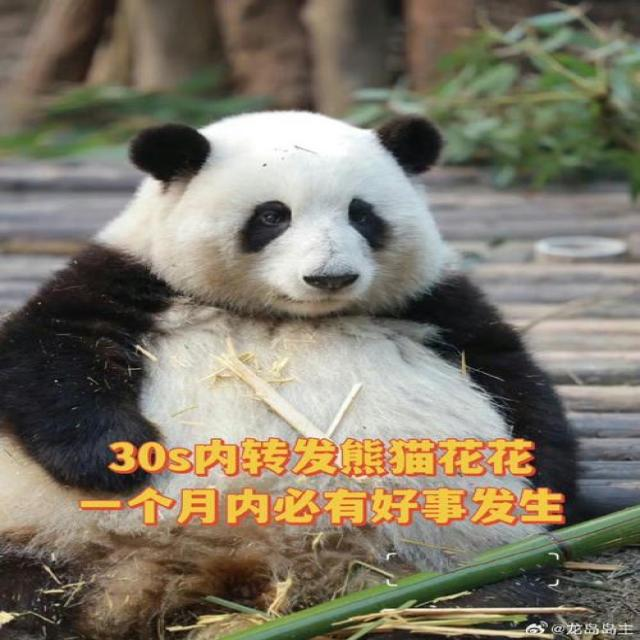panda: (12, 88, 550, 440)
